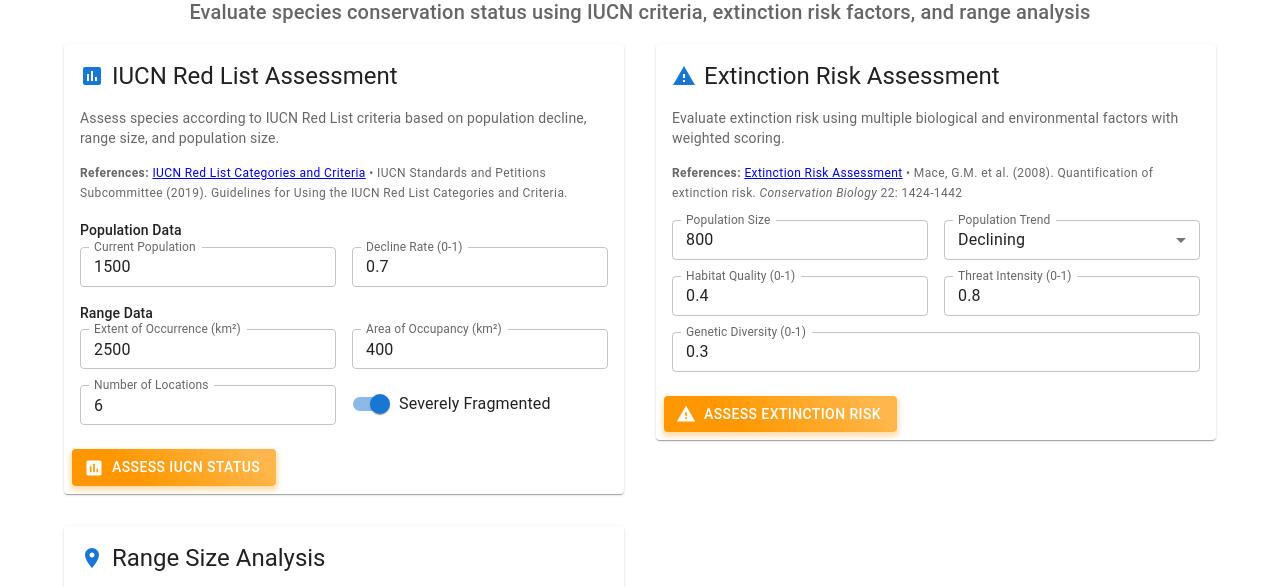
SpeciesAssessment Component › displays IUCN assessment results
The width and height of the screenshot is (1280, 587).
Step 1. Click the button "Assess IUCN Status" → (174, 468), box [72,449,276,486]
(page scrolled)
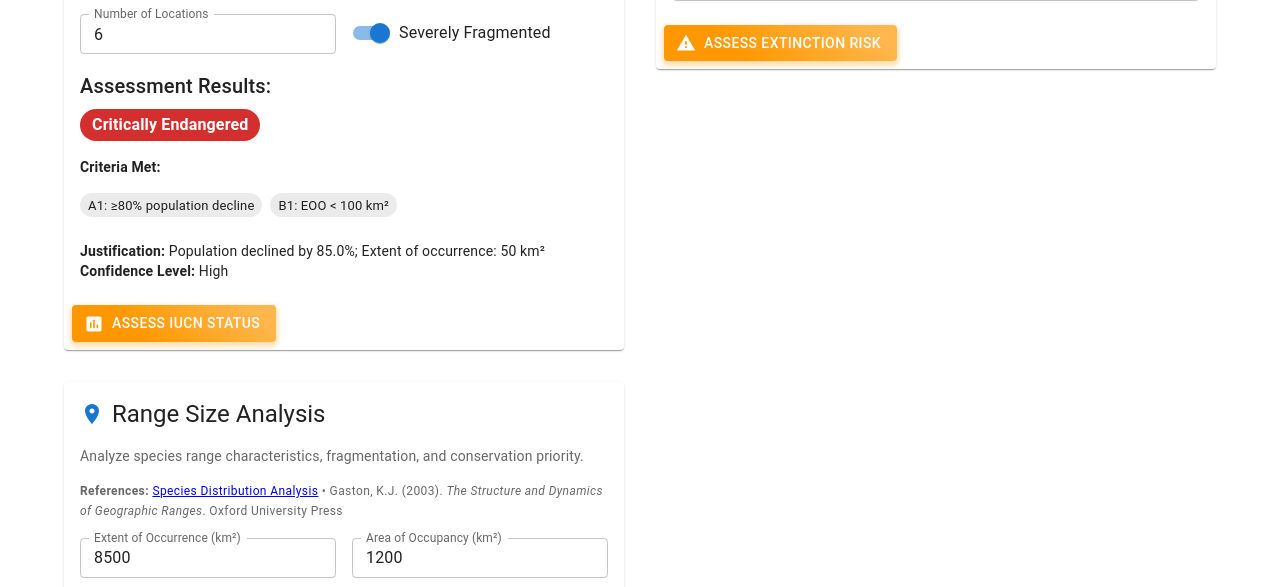
Now the text "Critically Endangered" is shown, box [80,113,260,137]
Now the text "A1: ≥80% population decline" is shown, box [80,196,262,215]
Now the text "Population declined by 85.0%" is shown, box [169,243,545,259]
